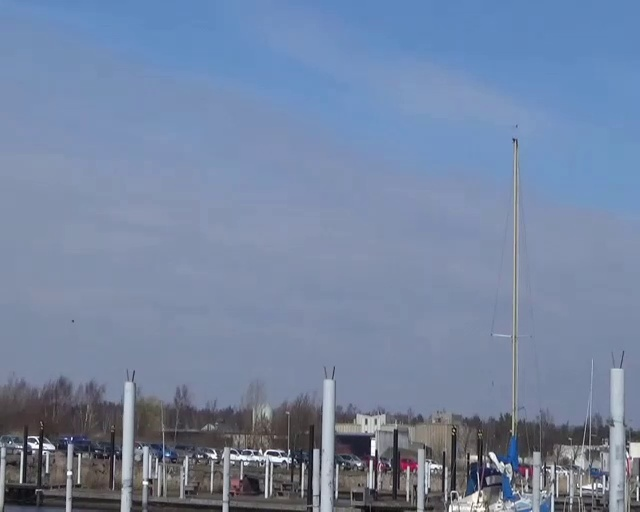BIRD: (417, 286, 428, 299)
